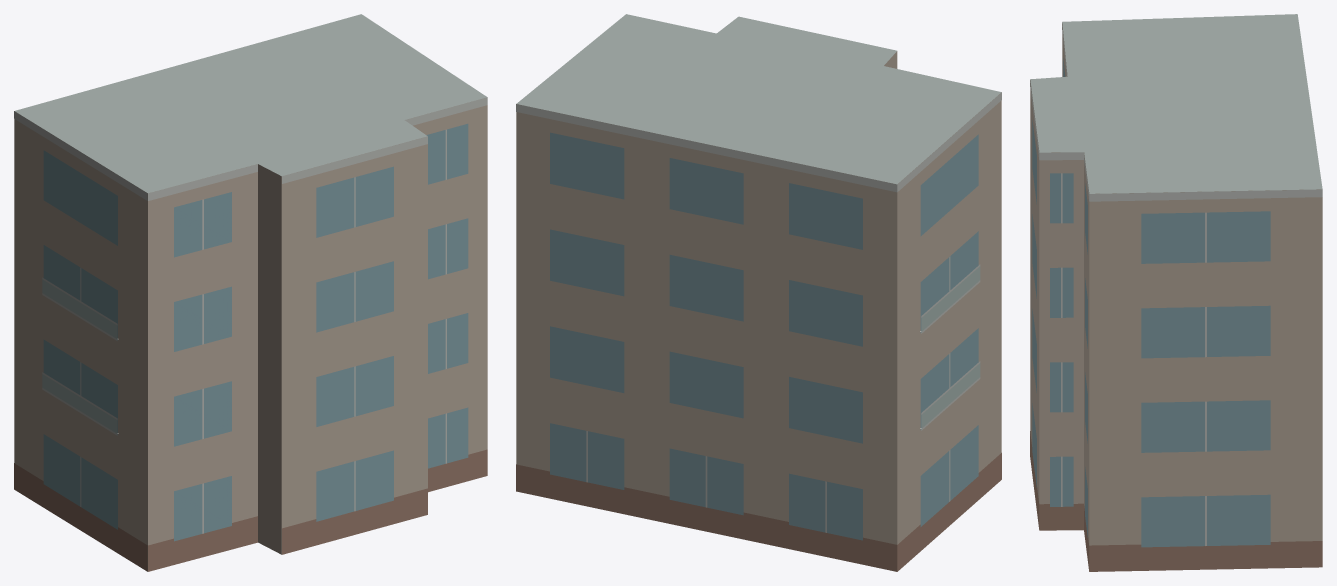
Rendered from survey-upis-32597347.glb.
The picture shows the model from 3 angles, left to right: view 1: azimuth 30°, elevation 25°; view 2: azimuth 150°, elevation 25°; view 3: azimuth 270°, elevation 25°; orthographic projection. The views are drawn at different scales.
Visible parts, largest first — view 1: survey-upis-32597347.tmp; view 2: survey-upis-32597347.tmp; view 3: survey-upis-32597347.tmp.
Boxes of the visible parts, box(x1,y1,x2,y2) form: survey-upis-32597347.tmp: box(14, 14, 487, 571); survey-upis-32597347.tmp: box(516, 14, 1001, 571); survey-upis-32597347.tmp: box(1030, 14, 1322, 571).
Size of the model in its own units: 12.05 by 11.8 by 8.28.
